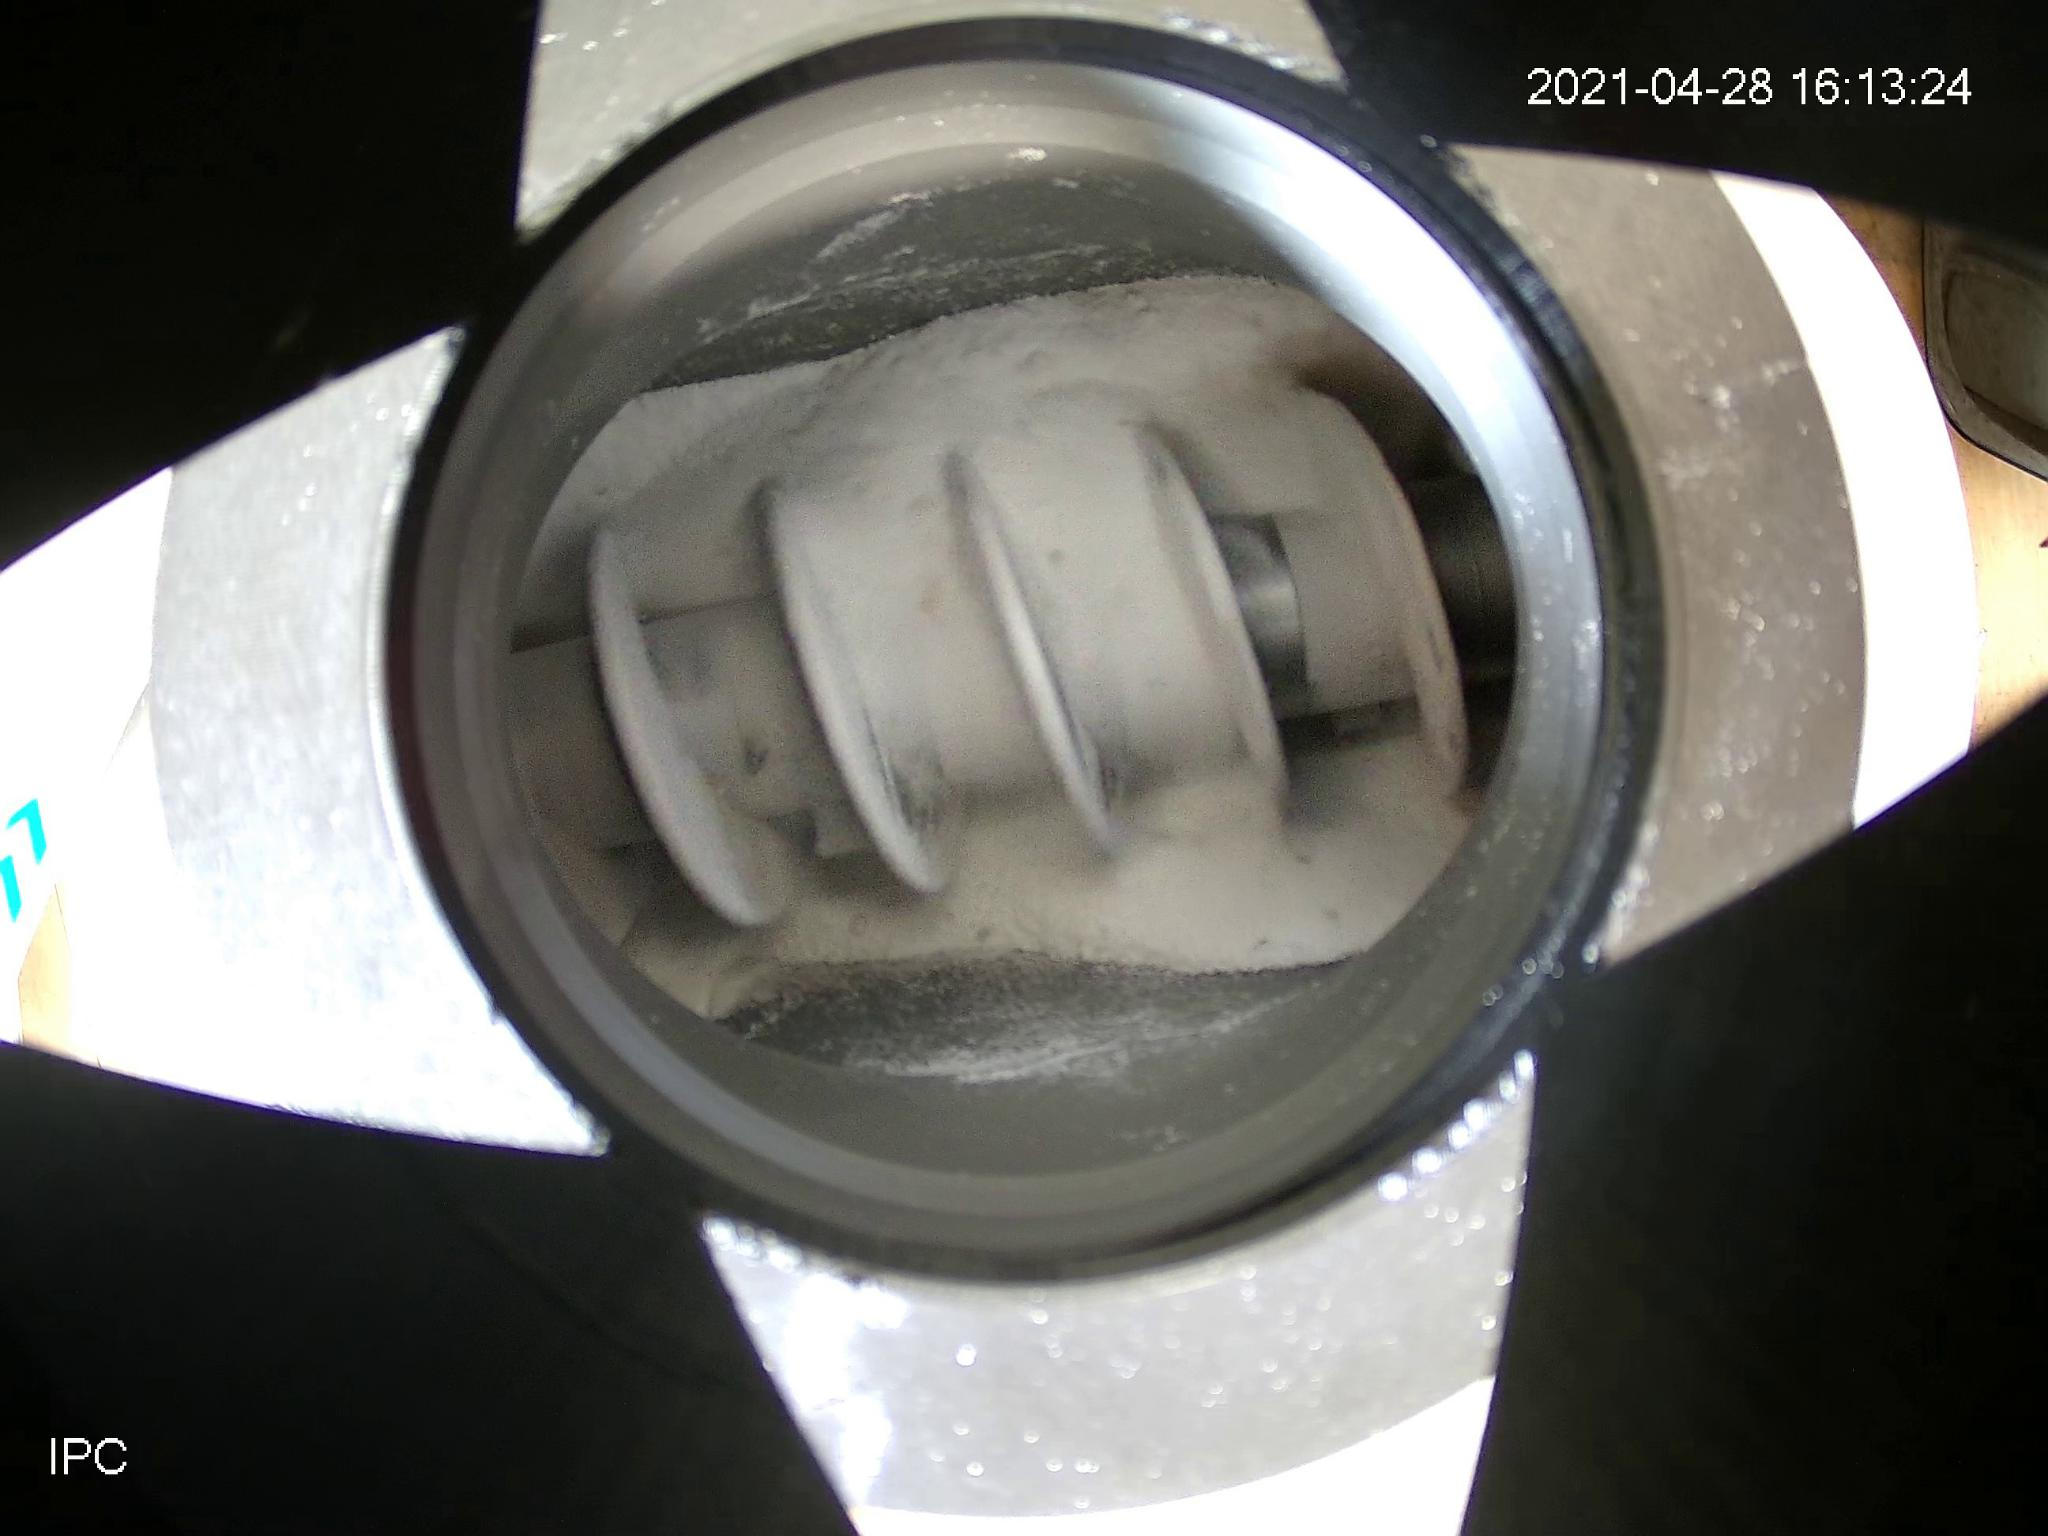stone: (740, 749, 763, 770), (976, 923, 992, 939), (1045, 549, 1063, 563), (850, 915, 863, 928), (1321, 905, 1335, 916), (1292, 852, 1311, 860)
